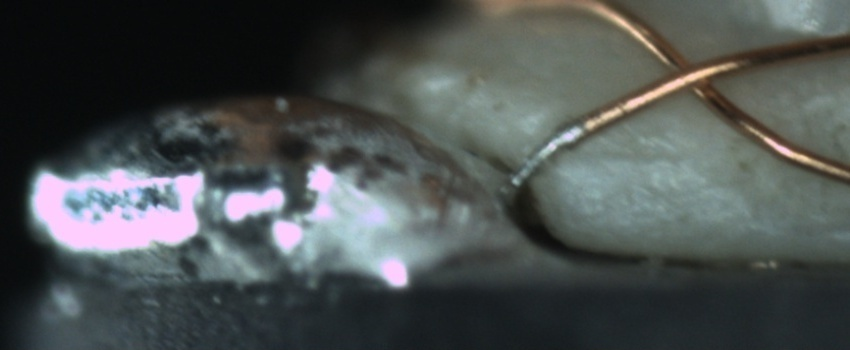CL: (646, 42, 737, 108)
DL: (561, 130, 696, 180)
TS: (508, 123, 585, 188)
TTCW: (507, 102, 611, 191)
